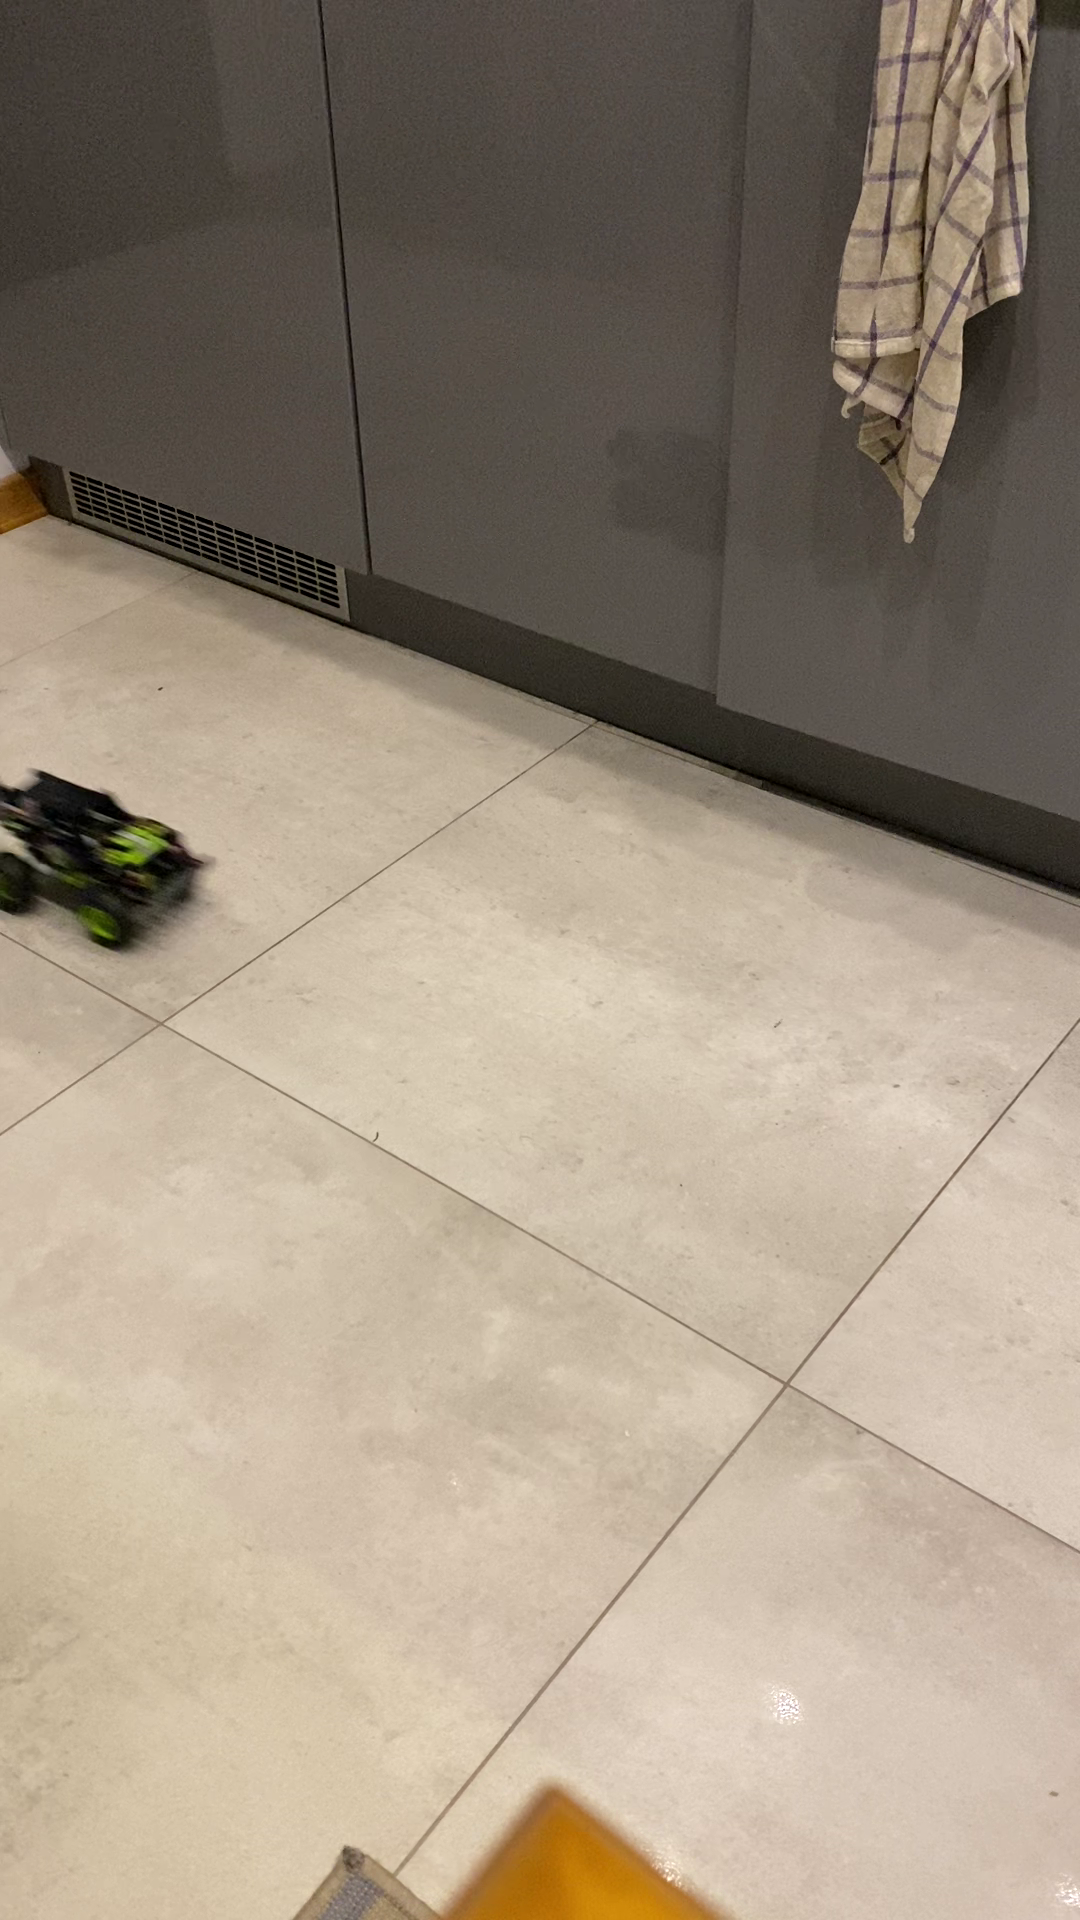car: (11, 773, 218, 959)
